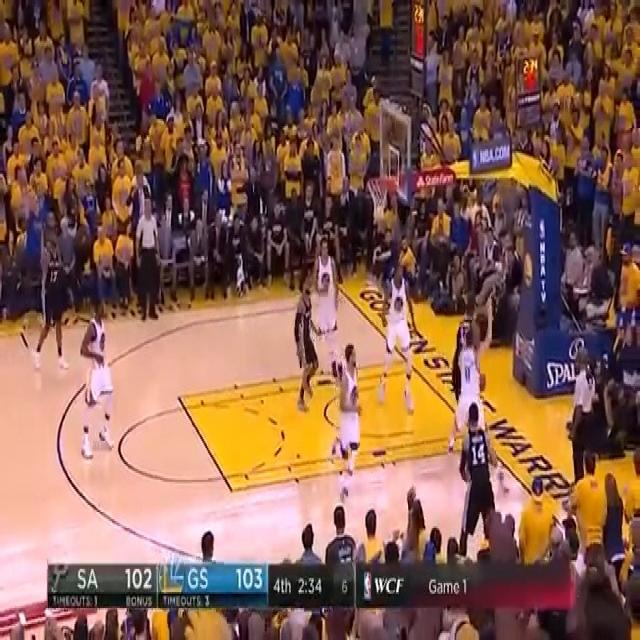basketball: (480, 373, 486, 392)
hoop: (365, 172, 396, 223)
